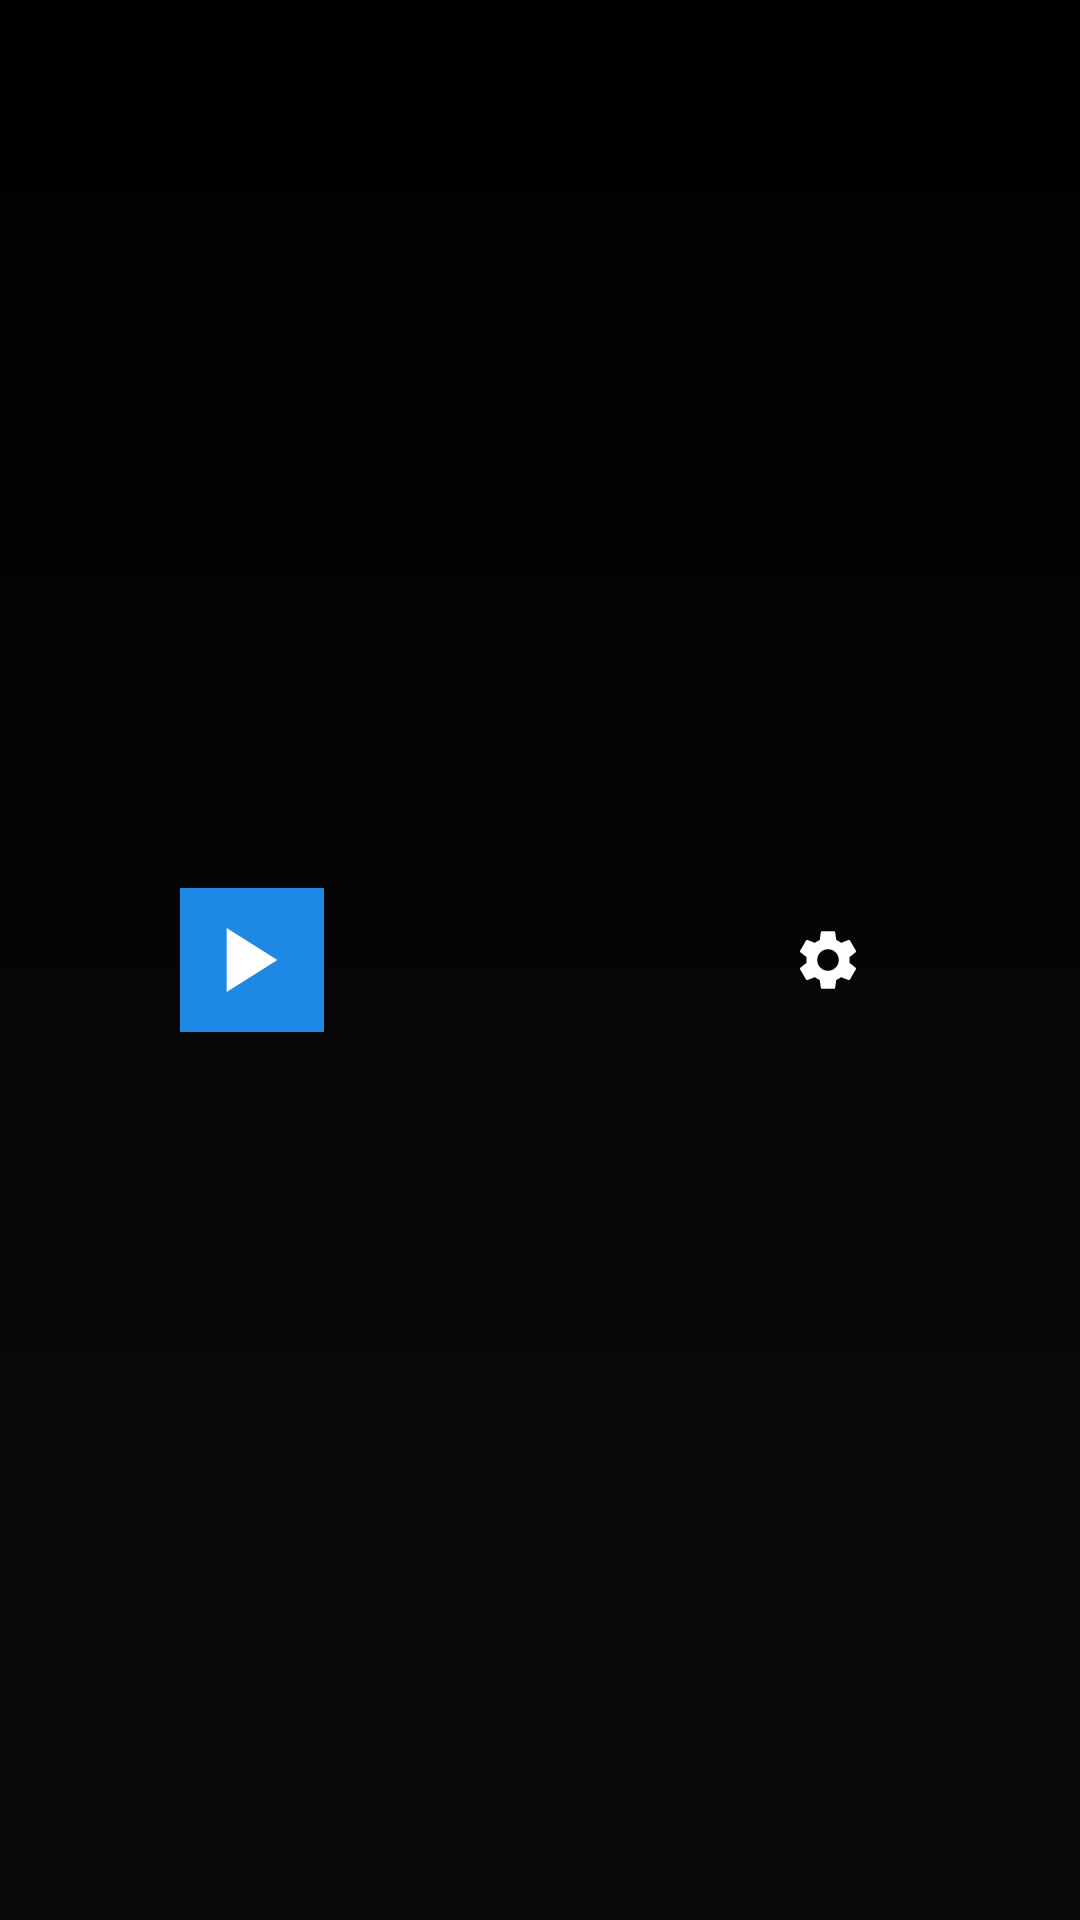

Named icons in this screenshot (1080px×1920px) and their bounding boxes, (x1, y1, x2, y2):
Settings: (800, 931, 856, 989)
